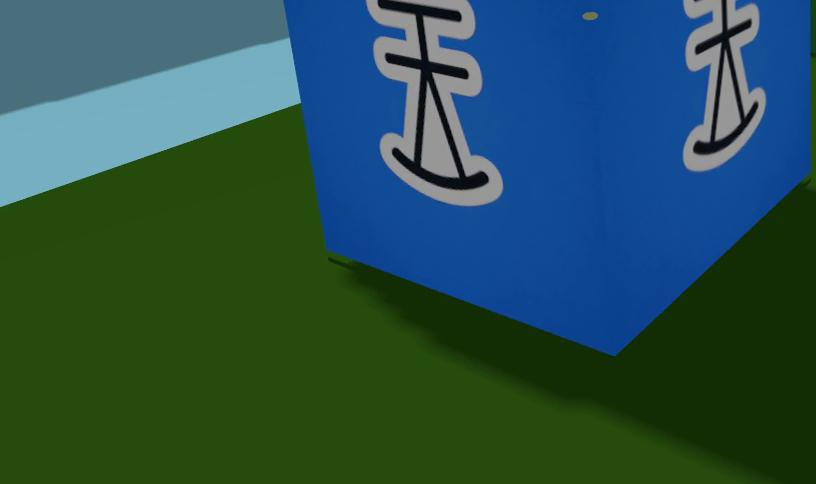KFS_REAL: (283, 0, 809, 352), (368, 0, 502, 206), (683, 0, 764, 171)
